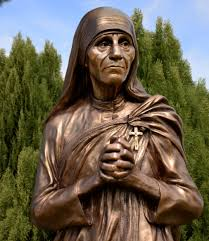person-like: (24, 2, 204, 240)
